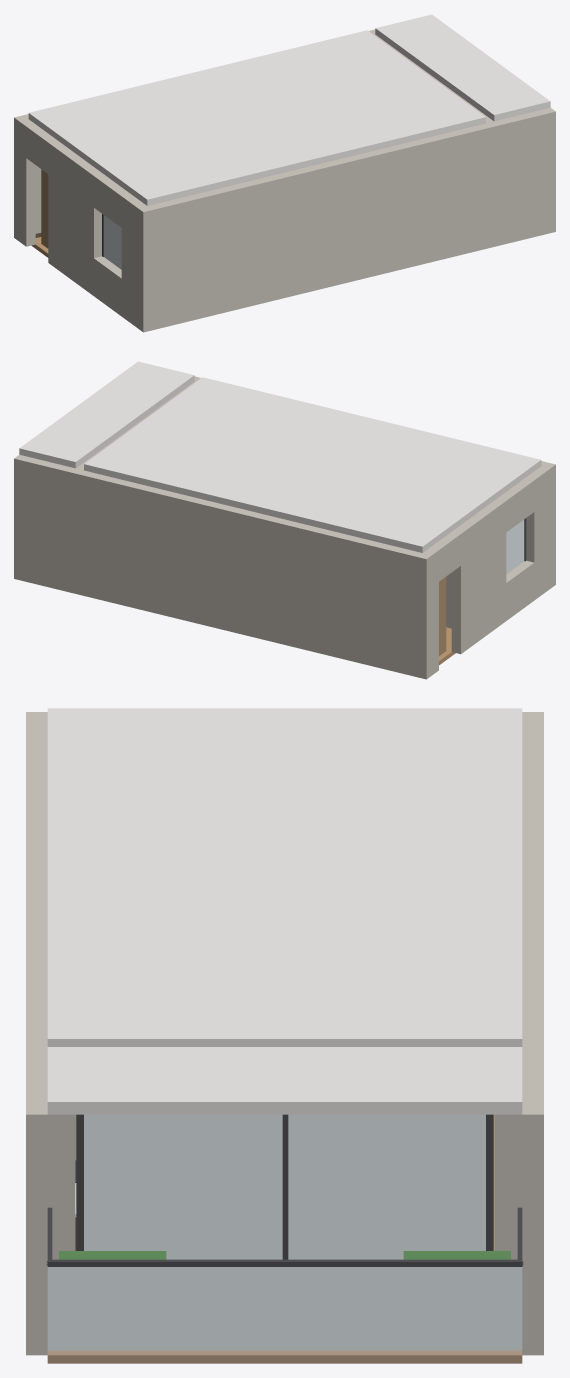
The model's file is unit_3.glb.
3 views of the same model, one above another, from view 1: azimuth 30°, elevation 25°; view 2: azimuth 150°, elevation 25°; view 3: azimuth 270°, elevation 25° (orthographic). The views are drawn at different scales.
Visible parts, largest first — view 1: Wall_South_Ext, Ceiling_Main, Ceiling_Balcony, Wall_West_Pier2, Wall_West_Pier3, Wall_West_EntryP1, Wall_North_Ext, Wall_West_WinSill, Wall_West_WinLintel, Wall_West_EntryLintel, Bed_Window_Glass, Door_MainEntry; view 2: Wall_North_Ext, Ceiling_Main, Ceiling_Balcony, Wall_West_Pier2, Wall_West_Pier3, Wall_West_WinSill, Wall_West_WinLintel, Wall_West_EntryP1, Wall_West_EntryLintel, Wall_South_Ext, Bed_Window_Glass, Door_MainEntry; view 3: Ceiling_Main, Balcony_Rail_GlassEast, Ceiling_Balcony, Balcony_Fixed_Glass, Balcony_Slider_Glass, Wall_South_Ext, Wall_North_Ext, Floor_Balcony, Col_East_North, Col_East_South, Balcony_HandrailEast, Balcony_Frame_L (+4 smaller).
Boxes of the visible parts, left/top/right/bottom form: Wall_South_Ext: left=138, top=107, right=555, bottom=332; Ceiling_Main: left=28, top=30, right=485, bottom=205; Ceiling_Balcony: left=375, top=14, right=550, bottom=121; Wall_West_Pier2: left=48, top=140, right=102, bottom=295; Wall_West_Pier3: left=121, top=194, right=146, bottom=328; Wall_West_EntryP1: left=19, top=119, right=35, bottom=246; Wall_North_Ext: left=14, top=29, right=375, bottom=241; Wall_West_WinSill: left=94, top=256, right=121, bottom=316; Wall_West_WinLintel: left=94, top=174, right=130, bottom=227; Wall_West_EntryLintel: left=26, top=124, right=57, bottom=173; Bed_Window_Glass: left=104, top=215, right=121, bottom=269; Door_MainEntry: left=41, top=169, right=48, bottom=248; Wall_North_Ext: left=14, top=454, right=431, bottom=679; Ceiling_Main: left=84, top=377, right=541, bottom=552; Ceiling_Balcony: left=19, top=361, right=194, bottom=468; Wall_West_Pier2: left=451, top=498, right=506, bottom=654; Wall_West_Pier3: left=525, top=466, right=550, bottom=600; Wall_West_WinSill: left=506, top=560, right=534, bottom=620; Wall_West_WinLintel: left=497, top=478, right=534, bottom=531; Wall_West_EntryP1: left=423, top=548, right=438, bottom=675; Wall_West_EntryLintel: left=430, top=532, right=460, bottom=581; Wall_South_Ext: left=194, top=376, right=555, bottom=588; Bed_Window_Glass: left=506, top=519, right=524, bottom=573; Door_MainEntry: left=439, top=577, right=446, bottom=655; Ceiling_Main: left=47, top=708, right=522, bottom=1046; Balcony_Rail_GlassEast: left=47, top=1267, right=522, bottom=1350; Ceiling_Balcony: left=47, top=1047, right=522, bottom=1114; Balcony_Fixed_Glass: left=84, top=1114, right=282, bottom=1259; Balcony_Slider_Glass: left=288, top=1114, right=485, bottom=1259; Wall_South_Ext: left=26, top=712, right=47, bottom=1355; Wall_North_Ext: left=522, top=712, right=543, bottom=1355; Floor_Balcony: left=47, top=1350, right=522, bottom=1363; Col_East_North: left=494, top=1114, right=522, bottom=1259; Col_East_South: left=47, top=1114, right=75, bottom=1259; Balcony_HandrailEast: left=47, top=1259, right=522, bottom=1266; Balcony_Frame_L: left=486, top=1114, right=493, bottom=1250.
Size of what is drawn, in the model's own units: 10.24 by 3.1 by 5.56.
